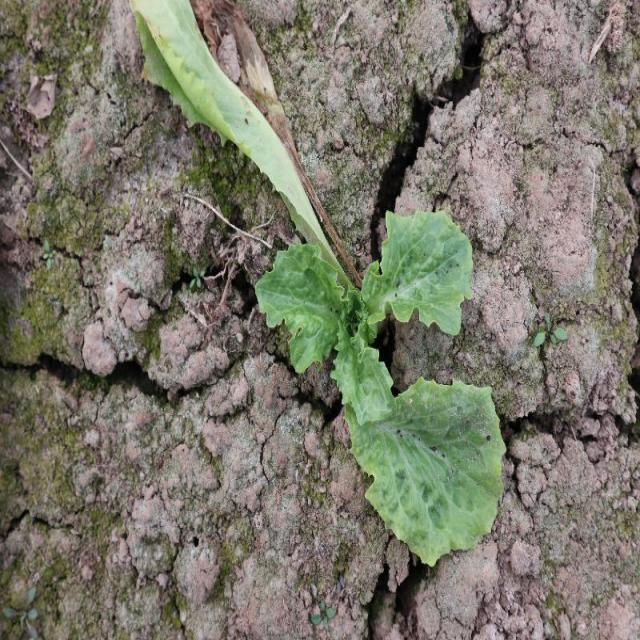crop: (127, 0, 505, 568)
